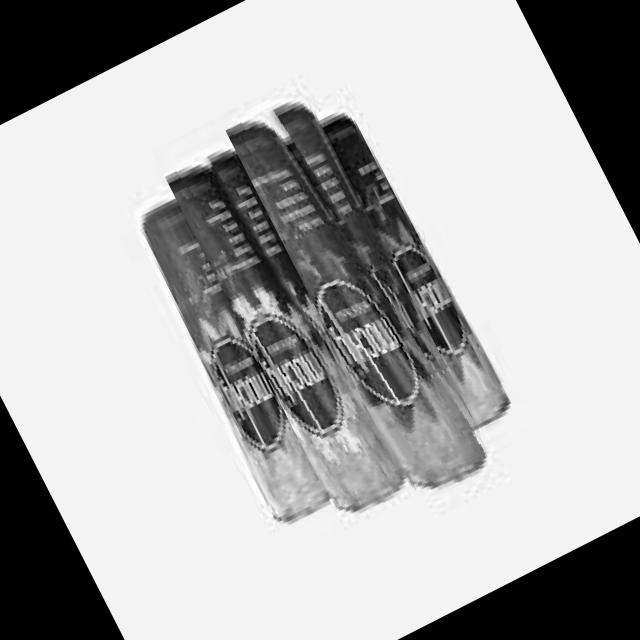Cans: (224, 86, 505, 513), (162, 136, 416, 526)
